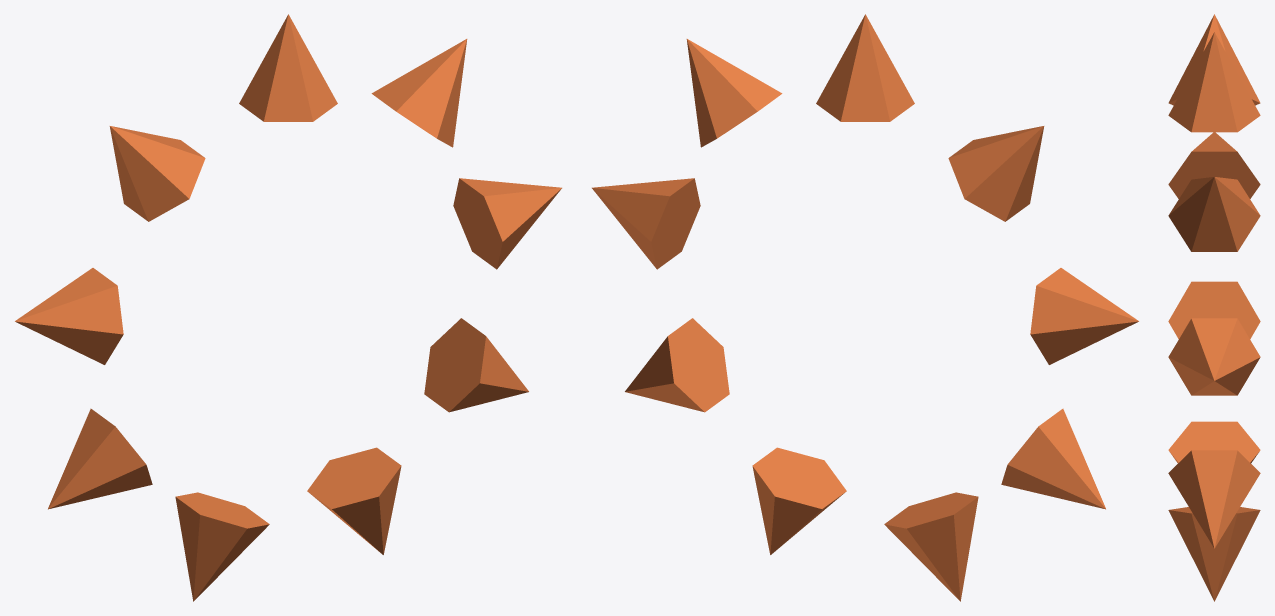
The model's file is Sun_light-vV0FNTw9.glb.
The picture shows the model from 3 angles, left to right: view 1: azimuth 30°, elevation 25°; view 2: azimuth 150°, elevation 25°; view 3: azimuth 270°, elevation 25°; orthographic projection. The views are drawn at different scales.
Visible parts, largest first — view 1: Cone; view 2: Cone; view 3: Cone.
Part boxes in pixels (x1,y1,x2,y2): Cone: (15,14,561,601); Cone: (592,14,1138,601); Cone: (1168,14,1260,601).
Size of the model in its own units: 11.16 by 10.99 by 1.75.
